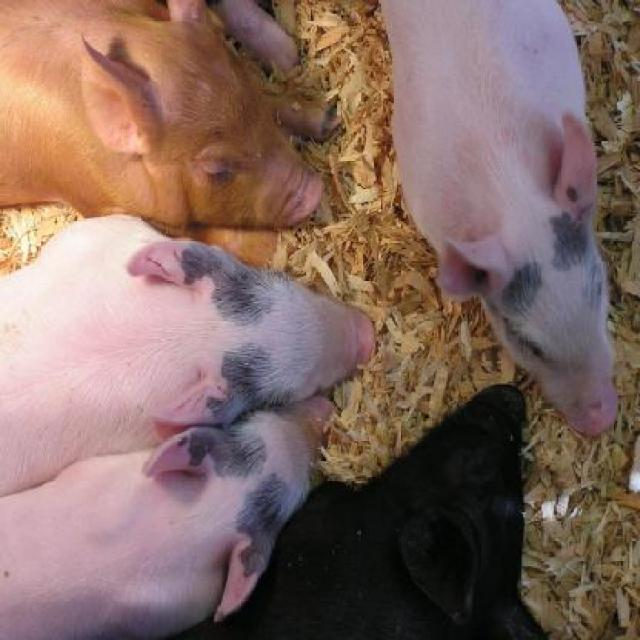pig: (0, 0, 554, 638), (379, 0, 622, 438)
